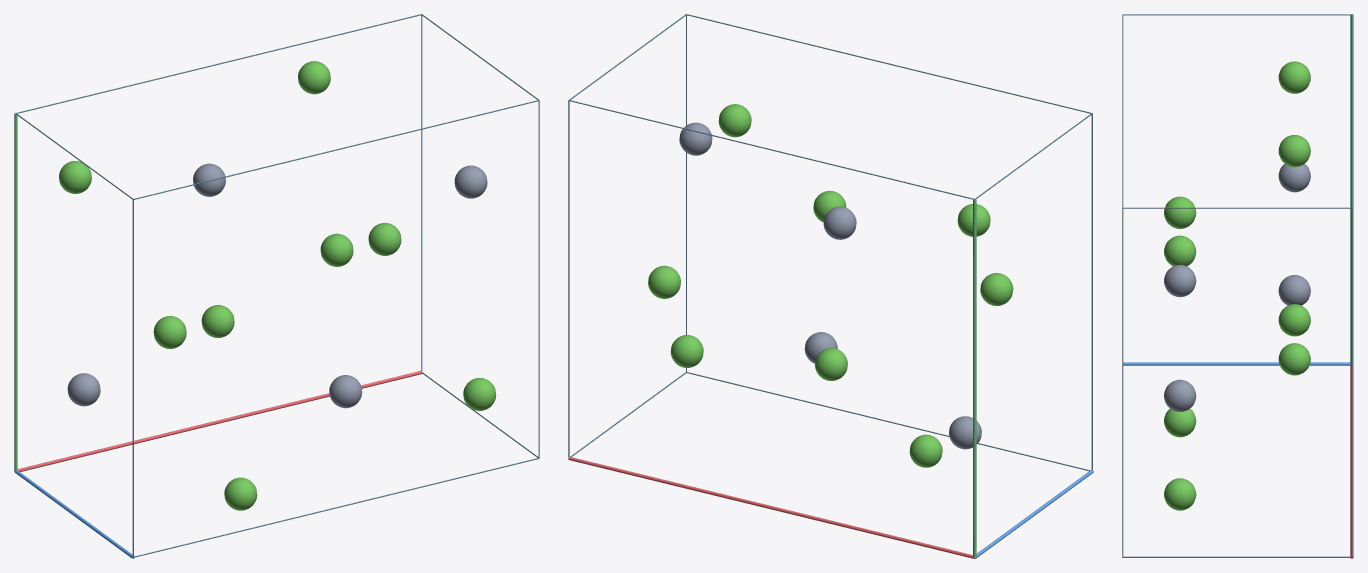
The model's file is chat-cotunnite.glb.
The picture shows the model from 3 angles, left to right: view 1: azimuth 30°, elevation 25°; view 2: azimuth 150°, elevation 25°; view 3: azimuth 270°, elevation 25°; orthographic projection. The views are drawn at different scales.
Visible parts, largest first — view 1: Ô mạng và các trục a, b, c, Cl2 · Cl · 1 (×4), Cl1 · Cl · 1 (×4), Pb · Pb · 1 (×4); view 2: Ô mạng và các trục a, b, c, Cl2 · Cl · 1 (×4), Pb · Pb · 1 (×3), Cl1 · Cl · 1 (×3); view 3: Ô mạng và các trục a, b, c, Cl1 · Cl · 1 (×4), Cl2 · Cl · 1 (×4), Pb · Pb · 1 (×4).
Boxes of the visible parts, x1,y1,x2,y2 form: Ô mạng và các trục a, b, c: (14,14,539,558); Cl2 · Cl · 1 (×4): (153,61,401,510); Cl1 · Cl · 1 (×4): (59,161,496,410); Pb · Pb · 1 (×4): (67,163,487,408); Ô mạng và các trục a, b, c: (568,14,1093,558); Cl2 · Cl · 1 (×4): (648,104,1013,467); Pb · Pb · 1 (×3): (679,122,981,449); Cl1 · Cl · 1 (×3): (670,204,990,380); Ô mạng và các trục a, b, c: (1122,14,1353,558); Cl1 · Cl · 1 (×4): (1164,61,1310,510); Cl2 · Cl · 1 (×4): (1164,135,1310,437); Pb · Pb · 1 (×4): (1164,163,1310,411).
Size of the model in its own units: 9.08 by 7.89 by 4.57.
